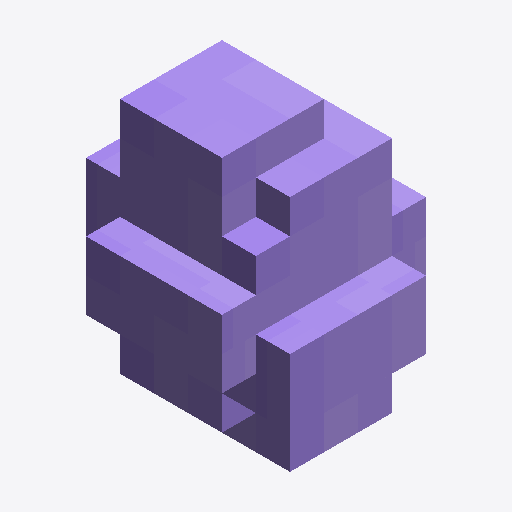
Isometric view (azimuth 45°, elevation 35.3°) of a Minecraft model made of 8 cuboids, textured from the same repository.
Visible parts, largest first — element 3, element 4, element 7, element 5, element 1, element 6, element 8.
Part boxes in pixels (x1,y1,x2,y2): element 3: (120, 40, 323, 431); element 4: (222, 99, 391, 471); element 7: (86, 217, 255, 392); element 5: (256, 256, 425, 431); element 1: (222, 217, 289, 412); element 6: (86, 139, 119, 235); element 8: (392, 178, 425, 274).
Bounding box in the file's own units: 6 × 8 × 6.